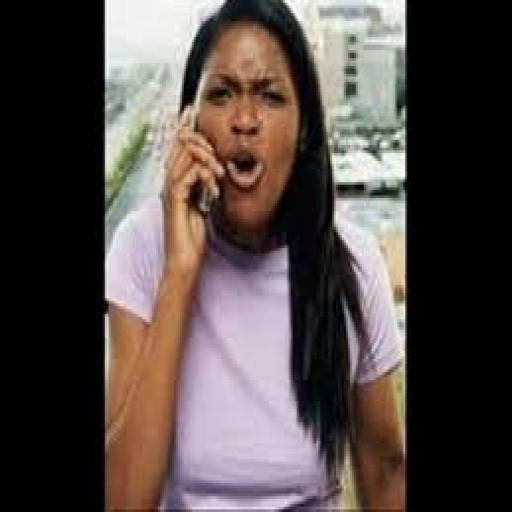calling: (100, 0, 405, 509)
